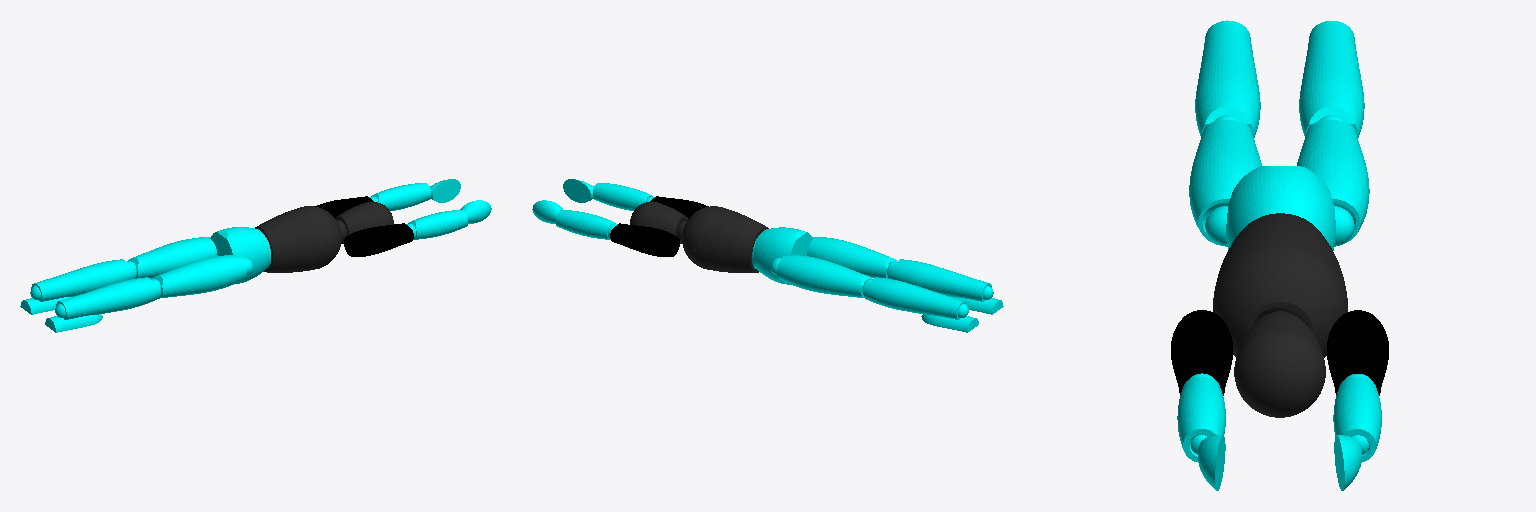
The robot description file, URDF, robot "human_5dof":
<?xml version="1.0" ?>
<robot name="human_5dof">
  <link name="world"/>
  <joint name="world_to_human" type="fixed">
    <origin rpy="1.57 0.0 0.0" xyz="0.0 0.0 0.0"/>
    <axis xyz="0 0 1"/>
    <parent link="world"/>
    <child link="foot"/>
  </joint>
  <material name="body_color">
    <texture/>
    <color rgba="0.005 0.005 0.005 0.6"/>
  </material>
  <link name="foot">
    <inertial>
      <mass value="0.9"/>
      <origin rpy="0 0 0" xyz="0.068 -0.027 0.005"/>
      <inertia ixx="0.000815" ixy="0.000477" ixz="-0.00018" iyy="0.00386" iyz="0.0" izz="0.003654"/>
    </inertial>
    <visual>
      <origin rpy="0 0 0" xyz="-0 0 0.1"/>
      <geometry>
        <mesh filename="package://meshes/foot_mesh.STL" scale="0.0060 0.0060 0.0060"/>
      </geometry>
      <material name="body_color">
        <texture/>
        <color rgba="0 1 1 0.5"/>
      </material>
    </visual>
    <visual>
      <origin rpy="0 0 0" xyz="0 0.0 -0.1"/>
      <geometry>
        <mesh filename="package://meshes/foot_mesh.STL" scale="0.0060 0.0060 0.0060"/>
      </geometry>
      <material name="body_color">
        <texture/>
        <color rgba="0 1 1 0.5"/>
      </material>
    </visual>
  </link>
  <joint name="ankle_Z" type="revolute">
    <origin rpy="0 0 0" xyz="0.0 0.0 0.0"/>
    <axis xyz="0 0 1"/>
    <parent link="foot"/>
    <child link="lowerleg"/>
    <limit effort="500.0" lower="-3.14159" upper="3.14159" velocity="200.0"/>
  </joint>
  <!-- TRANSMITION DEFINITION -->
  <transmission name="ankle_transmition">
    <type>transmission_interface/SimpleTransmission</type>
    <joint name="ankle_Z">
      <hardwareInterface>hardware_interface/EffortJointInterface</hardwareInterface>
    </joint>
    <actuator name="ankle_actuator">
      <hardwareInterface>hardware_interface/EffortJointInterface</hardwareInterface>
      <mechanicalReduction>1</mechanicalReduction>
    </actuator>
  </transmission>
  <link name="lowerleg">
    <inertial>
      <mass value="3.6"/>
      <origin rpy="0 -0 0" xyz="0.171 0.02 0.003"/>
      <inertia ixx="0.049314" ixy="-0.001006" ixz="-0.000252" iyy="0.00629" iyz="0.001573" izz="0.049314"/>
    </inertial>
    <visual>
      <origin rpy="0 0 -1.57" xyz="0.45 0.0 0.1"/>
      <geometry>
        <mesh filename="package://meshes/lowerleg_mesh.STL" scale="0.0063 0.0065 0.007"/>
      </geometry>
      <material name="body_color">
        <texture/>
        <color rgba="0 1 1 0.5"/>
      </material>
    </visual>
    <visual>
      <origin rpy="0 0 -1.57" xyz="0.45 0.0 -0.1"/>
      <geometry>
        <mesh filename="package://meshes/lowerleg_mesh.STL" scale="0.0063 0.0065 0.007"/>
      </geometry>
      <material name="body_color">
        <texture/>
        <color rgba="0 1 1 0.5"/>
      </material>
    </visual>
  </link>
  <joint name="knee_Z" type="revolute">
    <origin rpy="0 -0 0" xyz="0.3751 0.0 0.0"/>
    <axis xyz="0 0 1"/>
    <parent link="lowerleg"/>
    <child link="upperleg"/>
    <limit effort="500.0" lower="-0.10" upper="3.14159" velocity="200.0"/>
  </joint>
  <!-- TRANSMITION DEFINITION -->
  <transmission name="knee_transmition">
    <type>transmission_interface/SimpleTransmission</type>
    <joint name="knee_Z">
      <hardwareInterface>hardware_interface/EffortJointInterface</hardwareInterface>
    </joint>
    <actuator name="knee_actuator">
      <hardwareInterface>hardware_interface/EffortJointInterface</hardwareInterface>
      <mechanicalReduction>1</mechanicalReduction>
    </actuator>
  </transmission>
  <link name="upperleg">
    <inertial>
      <mass value="9.22"/>
      <origin rpy="0 -0 0" xyz="0.179 0.017 0.014"/>
      <inertia ixx="0.134834" ixy="0.007856" ixz="-0.000641" iyy="0.036073" iyz="-0.007856" izz="0.144293"/>
    </inertial>
    <visual>
      <origin rpy="0.0 0 -1.57" xyz="0.05 0.0 0.1"/>
      <geometry>
        <mesh filename="package://meshes/knee_mesh.STL" scale="0.006 0.006 0.006"/>
      </geometry>
      <material name="body_color">
        <texture/>
        <color rgba="0 1 1 0.5"/>
      </material>
    </visual>
    <visual>
      <origin rpy="0.0 0 -1.57" xyz="0.05 0.0 -0.1"/>
      <geometry>
        <mesh filename="package://meshes/knee_mesh.STL" scale="0.006 0.006 0.006"/>
      </geometry>
      <material name="body_color">
        <texture/>
        <color rgba="0 1 1 0.5"/>
      </material>
    </visual>
    <visual>
      <origin rpy="0 0 -1.57" xyz="0.47 0.0 0.1"/>
      <geometry>
        <mesh filename="package://meshes/upperleg_mesh.STL" scale="0.0063 0.0065 0.007"/>
      </geometry>
      <material name="body_color">
        <texture/>
        <color rgba="0 1 1 0.5"/>
      </material>
    </visual>
    <visual>
      <origin rpy="0 0 -1.57" xyz="0.47 0.0 -0.1"/>
      <geometry>
        <mesh filename="package://meshes/upperleg_mesh.STL" scale="0.0063 0.0065 0.007"/>
      </geometry>
      <material name="body_color">
        <texture/>
        <color rgba="0 1 1 0.5"/>
      </material>
    </visual>
  </link>
  <joint name="lumbar_Z" type="revolute">
    <origin rpy="0 -0 0" xyz="0.4661 0.0 0.0"/>
    <axis xyz="0 0 1"/>
    <parent link="upperleg"/>
    <child link="trunk"/>
    <limit effort="500.0" lower="-3.14" upper="3.14159" velocity="200.0"/>
  </joint>
  <!-- TRANSMITION DEFINITION -->
  <transmission name="lumbar_transmition">
    <type>transmission_interface/SimpleTransmission</type>
    <joint name="lumbar_Z">
      <hardwareInterface>hardware_interface/EffortJointInterface</hardwareInterface>
    </joint>
    <actuator name="lumbar_actuator">
      <hardwareInterface>hardware_interface/EffortJointInterface</hardwareInterface>
      <mechanicalReduction>1</mechanicalReduction>
    </actuator>
  </transmission>
  <link name="trunk">
    <inertial>
      <mass value="35.47"/>
      <origin rpy="0 -0 0" xyz="0.116 0.007 -0.001"/>
      <inertia ixx="2.592457" ixy="7.005900e-02" ixz="-3.523000e-04" iyy="2.448720e-01" iyz="-4.236600e-03" izz="2.594914"/>
    </inertial>
    <visual>
      <origin rpy="0 0 -1.57" xyz="0.05 0.0 0.0"/>
      <geometry>
        <mesh filename="package://meshes/pelvis_mesh.STL" scale="0.006 0.0055 0.0055"/>
      </geometry>
      <material name="body_color">
        <texture/>
        <color rgba="0 1 1 0.5"/>
      </material>
    </visual>
    <visual>
      <origin rpy="0 -0 -1.57" xyz="0.06 0.0 0.0"/>
      <geometry>
        <mesh filename="package://meshes/abdomen_mesh.STL" scale="0.0055 0.0055 0.0055"/>
      </geometry>
      <material name="body_color">
        <texture/>
        <color rgba="0 1 1 0.5"/>
      </material>
    </visual>
    <visual>
      <origin rpy="0 0 -1.57" xyz="0.0 0.0 0.0"/>
      <geometry>
        <mesh filename="package://meshes/torso_mesh.STL" scale="0.0065 0.0065 0.0065"/>
      </geometry>
      <material name="body_color">
        <texture/>
        <color rgba="0.2 0.2 0.2 0.2"/>
      </material>
    </visual>
    <visual>
      <origin rpy="0 0 -1.57" xyz="0.5 0.0 0.0"/>
      <geometry>
        <mesh filename="package://meshes/head_mesh.STL" scale="0.0055 0.0055 0.0055"/>
      </geometry>
      <material name="body_color">
        <texture/>
        <color rgba="0.2 0.2 0.2 0.5"/>
      </material>
    </visual>
    <visual>
      <origin rpy="0 0.0 0" xyz="0.5 -0.0 0.0"/>
      <geometry>
        <mesh filename="package://meshes/neck_mesh.STL" scale="0.005 0.005 0.005"/>
      </geometry>
      <material name="body_color">
        <texture/>
        <color rgba="0.2 0.2 0.2 0.7"/>
      </material>
    </visual>
  </link>
  <joint name="shoulder_Z" type="revolute">
    <origin rpy="0 -0 0" xyz="0.4305 0.0 0.0"/>
    <axis xyz="0 0 1"/>
    <parent link="trunk"/>
    <child link="upperarm"/>
    <limit effort="500.0" lower="-4.01" upper="1.5708" velocity="200.0"/>
  </joint>
  <!-- TRANSMITION DEFINITION -->
  <transmission name="shoulder_transmition">
    <type>transmission_interface/SimpleTransmission</type>
    <joint name="shoulder_Z">
      <hardwareInterface>hardware_interface/EffortJointInterface</hardwareInterface>
    </joint>
    <actuator name="shoulder_actuator">
      <hardwareInterface>hardware_interface/EffortJointInterface</hardwareInterface>
      <mechanicalReduction>1</mechanicalReduction>
    </actuator>
  </transmission>
  <link name="upperarm">
    <inertial>
      <mass value="1.8"/>
      <origin rpy="0 -0 0" xyz="0.118 -0.004 -0.007"/>
      <inertia ixx="0.011874" ixy="0.000445" ixz="0.000309" iyy="0.002422" iyz="4.9e-05" izz="0.012652"/>
    </inertial>
    <visual>
      <origin rpy="0 0 1.57" xyz="0.0 0.0 0.15"/>
      <geometry>
        <mesh filename="package://meshes/shoulder_mesh.STL" scale="0.0055 0.0055 0.0055"/>
      </geometry>
      <material name="body_color">
        <texture/>
        <color rgba="0 1 1 0.5"/>
      </material>
    </visual>
    <visual>
      <origin rpy="0 0 1.57" xyz="0.0 0.0 0.15"/>
      <geometry>
        <mesh filename="package://meshes/upperarm_mesh.STL" scale="0.0063 0.0060 0.007"/>
      </geometry>
      <material name="body_color"/>
    </visual>
    <visual>
      <origin rpy="0 0 1.57" xyz="0.0 0.0 -0.15"/>
      <geometry>
        <mesh filename="package://meshes/shoulder_mesh.STL" scale="0.0055 0.0055 0.0055"/>
      </geometry>
      <material name="body_color">
        <texture/>
        <color rgba="0 1 1 0.5"/>
      </material>
    </visual>
    <visual>
      <origin rpy="0 0 1.57" xyz="0.0 0.0 -0.15"/>
      <geometry>
        <mesh filename="package://meshes/upperarm_mesh.STL" scale="0.0063 0.0060 0.007"/>
      </geometry>
      <material name="body_color"/>
    </visual>
  </link>
  <joint name="elbow_Z" type="revolute">
    <origin rpy="0 -0 0" xyz="0.3052 0.0 0.0"/>
    <axis xyz="0 0 1"/>
    <parent link="upperarm"/>
    <child link="lowerarm"/>
    <limit effort="500.0" lower="-0.10" upper="2.96706" velocity="200.0"/>
  </joint>
  <!-- TRANSMITION DEFINITION -->
  <transmission name="elbow_transmition">
    <type>transmission_interface/SimpleTransmission</type>
    <joint name="elbow_Z">
      <hardwareInterface>hardware_interface/EffortJointInterface</hardwareInterface>
    </joint>
    <actuator name="elbow_actuator">
      <hardwareInterface>hardware_interface/EffortJointInterface</hardwareInterface>
      <mechanicalReduction>1</mechanicalReduction>
    </actuator>
  </transmission>
  <link name="lowerarm">
    <inertial>
      <mass value="1.28"/>
      <origin rpy="0 -0 0" xyz="0.114 -0.003 0.004"/>
      <inertia ixx="0.007479" ixy="8.6e-05" ixz="3.8e-05" iyy="0.001154" iyz="-0.000611" izz="0.006954"/>
    </inertial>
    <visual>
      <origin rpy="0 0 1.57" xyz="0.02 0. 0.15"/>
      <geometry>
        <mesh filename="package://meshes/elbow_mesh.STL" scale="0.0055 0.0055 0.0055"/>
      </geometry>
      <material name="body_color">
        <texture/>
        <color rgba="0 1 1 0.5"/>
      </material>
    </visual>
    <visual>
      <origin rpy="0 0 1.57" xyz="0.03 0.0 0.15"/>
      <geometry>
        <mesh filename="package://meshes/lowerarm_mesh.STL" scale="0.0060 0.0060 0.0060"/>
      </geometry>
      <material name="body_color">
        <texture/>
        <color rgba="0 1 1 0.5"/>
      </material>
    </visual>
    <visual>
      <origin rpy="0 0 1.57" xyz="0.02 0.0 -0.15"/>
      <geometry>
        <mesh filename="package://meshes/elbow_mesh.STL" scale="0.0055 0.0055 0.0055"/>
      </geometry>
      <material name="body_color">
        <texture/>
        <color rgba="0 1 1 0.5"/>
      </material>
    </visual>
    <visual>
      <origin rpy="0 0 1.57" xyz="0.03 0.0 -0.15"/>
      <geometry>
        <mesh filename="package://meshes/lowerarm_mesh.STL" scale="0.0060 0.0060 0.0060"/>
      </geometry>
      <material name="body_color">
        <texture/>
        <color rgba="0 1 1 0.5"/>
      </material>
    </visual>
  </link>
  <joint name="hand_fixed" type="fixed">
    <origin rpy="0 -0 0" xyz="0.2173 0.0 0.0"/>
    <axis xyz="0 0 1"/>
    <parent link="lowerarm"/>
    <child link="hand"/>
    <limit effort="500.0" lower="-1.5708" upper="1.5708" velocity="200.0"/>
  </joint>
  <link name="hand">
    <inertial>
      <mass value="0.45"/>
      <origin rpy="0 -0 0" xyz="0.015 -0.154 0.014"/>
      <inertia ixx="0.005608" ixy="0.000729" ixz="0.000339" iyy="0.002176" iyz="-0.000603" izz="0.004726"/>
    </inertial>
    <visual>
      <origin rpy="0 1.57 1.57" xyz="0.035 0.0 0.15"/>
      <geometry>
        <mesh filename="package://meshes/hand_mesh.STL" scale="0.0060 0.0060 0.0060"/>
      </geometry>
      <material name="body_color">
        <texture/>
        <color rgba="0 1 1 0.5"/>
      </material>
    </visual>
    <visual>
      <origin rpy="0 -1.57 1.57" xyz="0.035 0.0 -0.15"/>
      <geometry>
        <mesh filename="package://meshes/hand_mesh.STL" scale="0.0060 0.0060 0.0060"/>
      </geometry>
      <material name="body_color">
        <texture/>
        <color rgba="0 1 1 0.5"/>
      </material>
    </visual>
  </link>
  <gazebo>
    <plugin filename="libgazebo_ros_control.so" name="gazebo_ros_control_human">
      <controlPeriod>0.01</controlPeriod>
      <robotNamespace>/human</robotNamespace>
      <robotSimType>rt-cosmik/HumanGazeboHW</robotSimType>
    </plugin>
    <!-- <self_collide>true</self_collide> -->
  </gazebo>
</robot>

--- Facts derived from the render (not from the file) ---
The picture shows the robot from 3 angles, left to right: view 1: azimuth 30°, elevation 25°; view 2: azimuth 150°, elevation 25°; view 3: azimuth 270°, elevation 25°; orthographic projection.
Robot: human_5dof — 8 links, 7 joints (5 revolute, 2 fixed); root link world; default pose: every joint at zero.
Visible links, largest first — view 1: trunk, upperleg, lowerleg, lowerarm, upperarm, foot, hand; view 2: trunk, upperleg, lowerleg, lowerarm, upperarm, foot, hand; view 3: trunk, lowerleg, upperleg, upperarm, lowerarm, hand.
Link boxes in pixels (bbox=[...]): trunk: bbox=[210, 202, 393, 283]; upperleg: bbox=[127, 237, 252, 298]; lowerleg: bbox=[31, 259, 160, 319]; lowerarm: bbox=[369, 183, 467, 239]; upperarm: bbox=[315, 196, 413, 256]; foot: bbox=[20, 286, 102, 332]; hand: bbox=[430, 179, 491, 223]; trunk: bbox=[630, 202, 812, 284]; upperleg: bbox=[771, 237, 896, 297]; lowerleg: bbox=[863, 259, 991, 319]; lowerarm: bbox=[556, 183, 654, 239]; upperarm: bbox=[610, 196, 708, 256]; foot: bbox=[921, 286, 1003, 332]; hand: bbox=[532, 179, 593, 223]; trunk: bbox=[1213, 166, 1347, 417]; lowerleg: bbox=[1195, 20, 1364, 137]; upperleg: bbox=[1189, 115, 1369, 246]; upperarm: bbox=[1171, 310, 1388, 395]; lowerarm: bbox=[1177, 373, 1381, 461]; hand: bbox=[1191, 435, 1368, 490].
Size in the robot's own frame: 2.05 by 0.4203 by 0.2406 metres.
21 mesh visuals loaded from 14 distinct referenced files (13 binary STL); not drawn: 2 (reference not matched to a file when rendering).
